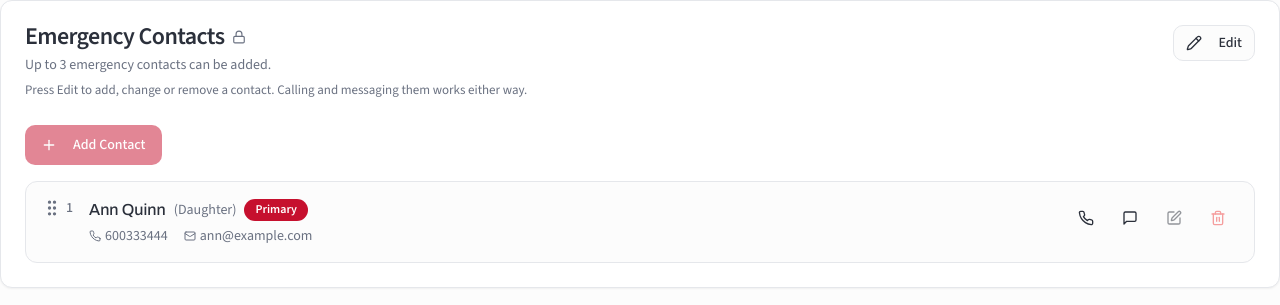
Test case: emergency contacts › Edit arms them, Done disarms them again — and there is no Save to press
This screenshot has width=1280, height=305.
expect the element with test id "contacts-card-fields" is shown: met, box [25,124,1255,262]
Step 1. Click the button with test id "contacts-card-edit" → (1214, 43), box [1173,25,1255,61]
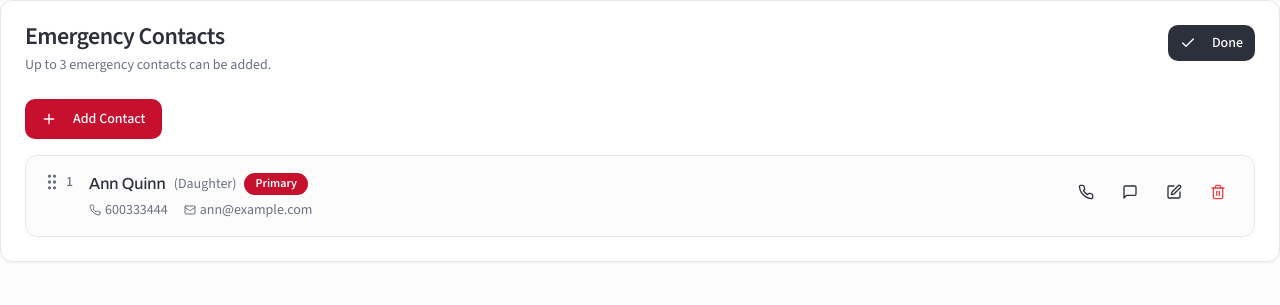
expect the element with test id "contacts-card-fields" is enabled: met, box [25,99,1255,237]
Step 2. Click the button with test id "contacts-card-done" → (1211, 43), box [1168,25,1255,61]
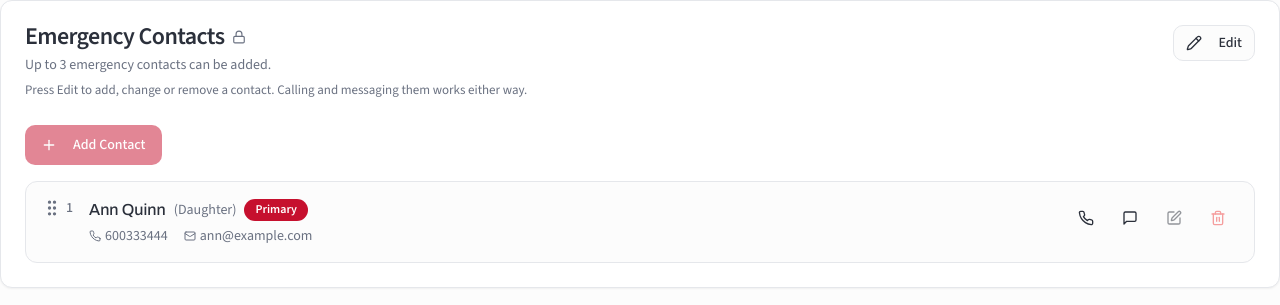
expect the element with test id "contacts-card-fields" is disabled: met, box [25,124,1255,262]
